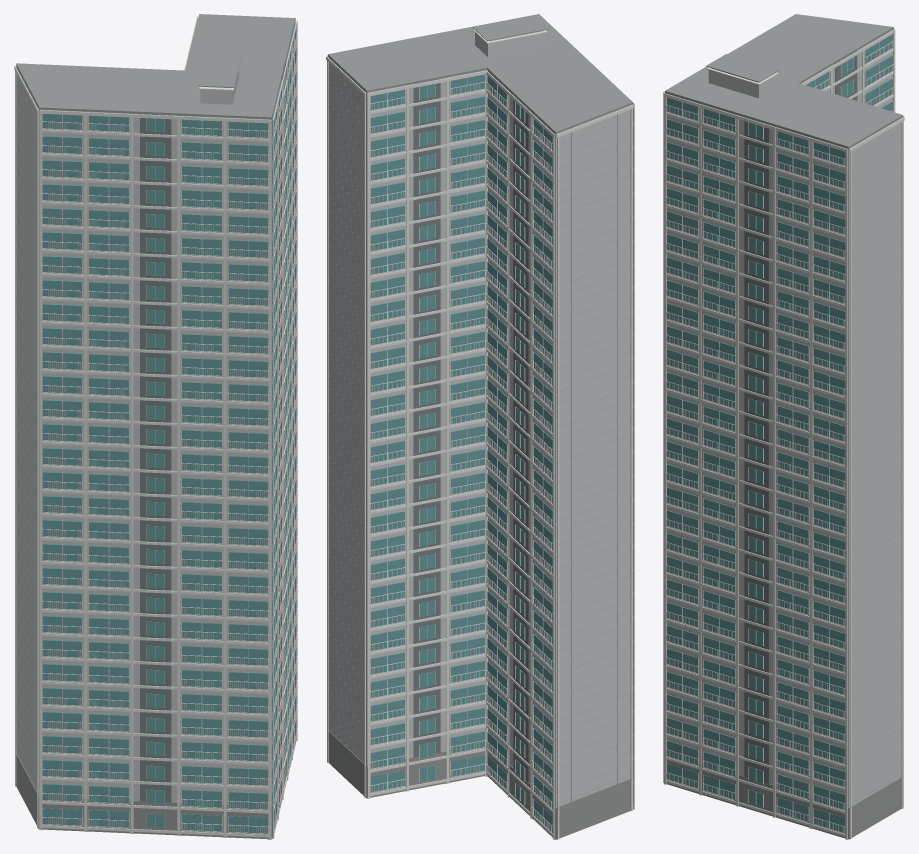
Rendered from bespoke-jamsil-ricenz-247.glb.
3 renders of one model, left to right at view 1: azimuth 30°, elevation 25°; view 2: azimuth 150°, elevation 25°; view 3: azimuth 270°, elevation 25°, orthographic. The views are drawn at different scales.
Visible parts, largest first — view 1: Ricenz247_editable_Ricenz247_turquoise_balcony_glazing, Ricenz247_editable_Ricenz247_light_grey_solid_wall, Ricenz247_white_exact_chunk_2, Ricenz247_white_exact_chunk_1, Ricenz247_editable_Ricenz247_modest_grey_flat_roof_caps, Ricenz247_editable_Ricenz247_narrow_charcoal_service_strips, Ricenz247_white_exact_chunk_4, Ricenz247_white_exact_chunk_3, Ricenz247_editable_Ricenz247_muted_ground_wall; view 2: Ricenz247_editable_Ricenz247_light_grey_solid_wall, Ricenz247_editable_Ricenz247_turquoise_balcony_glazing, Ricenz247_white_exact_chunk_5, Ricenz247_editable_Ricenz247_modest_grey_flat_roof_caps, Ricenz247_white_exact_chunk_0, Ricenz247_editable_Ricenz247_narrow_charcoal_service_strips, Ricenz247_white_exact_chunk_1, Ricenz247_white_exact_chunk_4, Ricenz247_editable_Ricenz247_muted_ground_wall, Ricenz247_white_exact_chunk_2; view 3: Ricenz247_editable_Ricenz247_turquoise_balcony_glazing, Ricenz247_editable_Ricenz247_light_grey_solid_wall, Ricenz247_white_exact_chunk_4, Ricenz247_white_exact_chunk_3, Ricenz247_editable_Ricenz247_modest_grey_flat_roof_caps, Ricenz247_editable_Ricenz247_narrow_charcoal_service_strips, Ricenz247_white_exact_chunk_2, Ricenz247_editable_Ricenz247_muted_ground_wall, Ricenz247_white_exact_chunk_1, Ricenz247_white_exact_chunk_5.
Boxes of the visible parts, x1=… form: Ricenz247_editable_Ricenz247_turquoise_balcony_glazing: x1=42, y1=24, x2=296, y2=833; Ricenz247_editable_Ricenz247_light_grey_solid_wall: x1=16, y1=20, x2=295, y2=805; Ricenz247_white_exact_chunk_2: x1=39, y1=110, x2=278, y2=839; Ricenz247_white_exact_chunk_1: x1=14, y1=65, x2=223, y2=835; Ricenz247_editable_Ricenz247_modest_grey_flat_roof_caps: x1=16, y1=14, x2=295, y2=788; Ricenz247_editable_Ricenz247_narrow_charcoal_service_strips: x1=140, y1=40, x2=285, y2=802; Ricenz247_white_exact_chunk_4: x1=273, y1=20, x2=297, y2=838; Ricenz247_white_exact_chunk_3: x1=274, y1=71, x2=292, y2=813; Ricenz247_editable_Ricenz247_muted_ground_wall: x1=16, y1=724, x2=293, y2=839; Ricenz247_editable_Ricenz247_light_grey_solid_wall: x1=328, y1=30, x2=632, y2=807; Ricenz247_editable_Ricenz247_turquoise_balcony_glazing: x1=370, y1=74, x2=552, y2=831; Ricenz247_white_exact_chunk_5: x1=367, y1=29, x2=547, y2=798; Ricenz247_editable_Ricenz247_modest_grey_flat_roof_caps: x1=328, y1=14, x2=632, y2=803; Ricenz247_white_exact_chunk_0: x1=486, y1=75, x2=552, y2=835; Ricenz247_editable_Ricenz247_narrow_charcoal_service_strips: x1=413, y1=78, x2=528, y2=782; Ricenz247_white_exact_chunk_1: x1=485, y1=70, x2=634, y2=839; Ricenz247_white_exact_chunk_4: x1=326, y1=55, x2=406, y2=797; Ricenz247_editable_Ricenz247_muted_ground_wall: x1=328, y1=731, x2=633, y2=839; Ricenz247_white_exact_chunk_2: x1=541, y1=16, x2=634, y2=809; Ricenz247_editable_Ricenz247_turquoise_balcony_glazing: x1=667, y1=35, x2=892, y2=832; Ricenz247_editable_Ricenz247_light_grey_solid_wall: x1=665, y1=29, x2=902, y2=807; Ricenz247_white_exact_chunk_4: x1=663, y1=93, x2=904, y2=839; Ricenz247_white_exact_chunk_3: x1=666, y1=97, x2=809, y2=825; Ricenz247_editable_Ricenz247_modest_grey_flat_roof_caps: x1=665, y1=14, x2=902, y2=802; Ricenz247_editable_Ricenz247_narrow_charcoal_service_strips: x1=744, y1=51, x2=857, y2=783; Ricenz247_white_exact_chunk_2: x1=663, y1=91, x2=699, y2=792; Ricenz247_editable_Ricenz247_muted_ground_wall: x1=666, y1=756, x2=901, y2=839; Ricenz247_white_exact_chunk_1: x1=802, y1=28, x2=895, y2=112; Ricenz247_white_exact_chunk_5: x1=706, y1=67, x2=904, y2=806.
Size of the model in its own units: 36.89 by 90.96 by 28.03.
